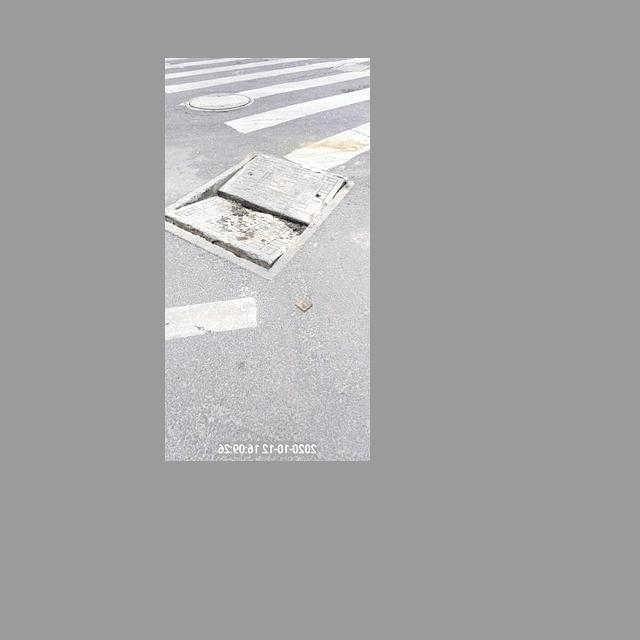broke: (167, 137, 356, 282)
